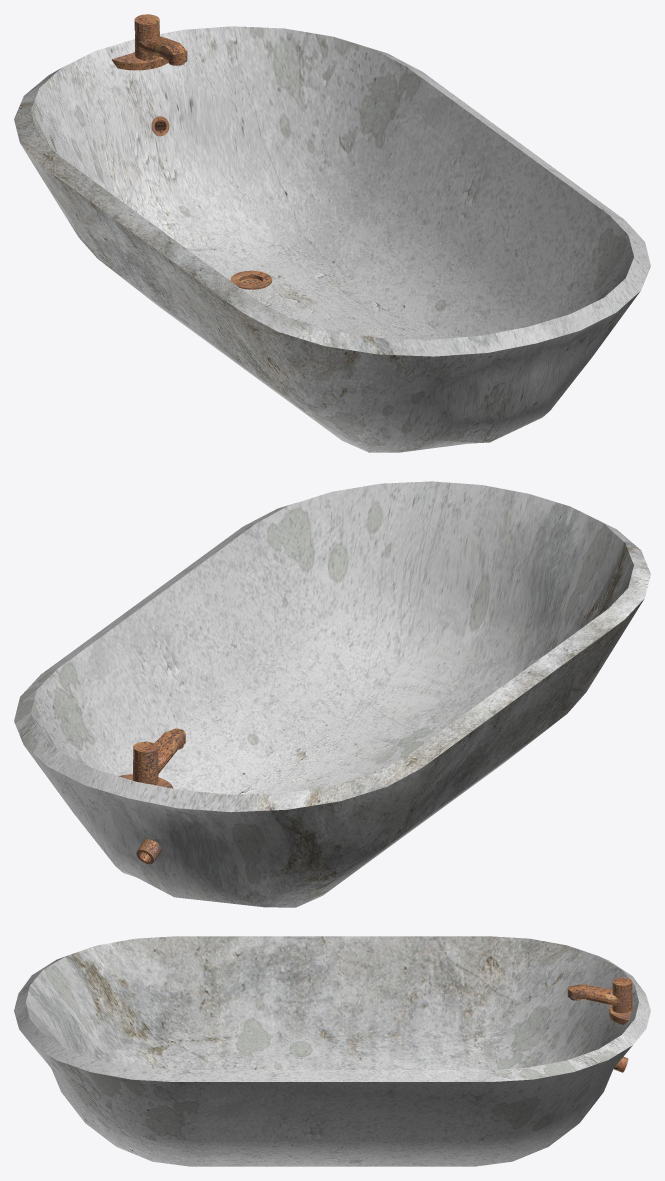
Rendered from bathhub.FBX.
The picture shows the model from 3 angles, top to bottom: view 1: azimuth 30°, elevation 25°; view 2: azimuth 150°, elevation 25°; view 3: azimuth 270°, elevation 25°; orthographic projection. The views are drawn at different scales.
Parts seen in each view (by area): view 1: Flange001, Faucet, Cylinder003, Flange002; view 2: Flange001, Faucet; view 3: Flange001, Faucet.
Part boxes in pixels (left/top/right/bottom): Flange001: left=14, top=26, right=650, bottom=452; Faucet: left=135, top=30, right=187, bottom=65; Cylinder003: left=111, top=52, right=168, bottom=70; Flange002: left=230, top=270, right=271, bottom=289; Flange001: left=14, top=481, right=650, bottom=907; Faucet: left=133, top=728, right=185, bottom=785; Flange001: left=14, top=936, right=650, bottom=1166; Faucet: left=567, top=984, right=632, bottom=1013.
Bounding box in the file's own units: 22.9 × 11.52 × 42.44.
3 materials, 3 textured.
